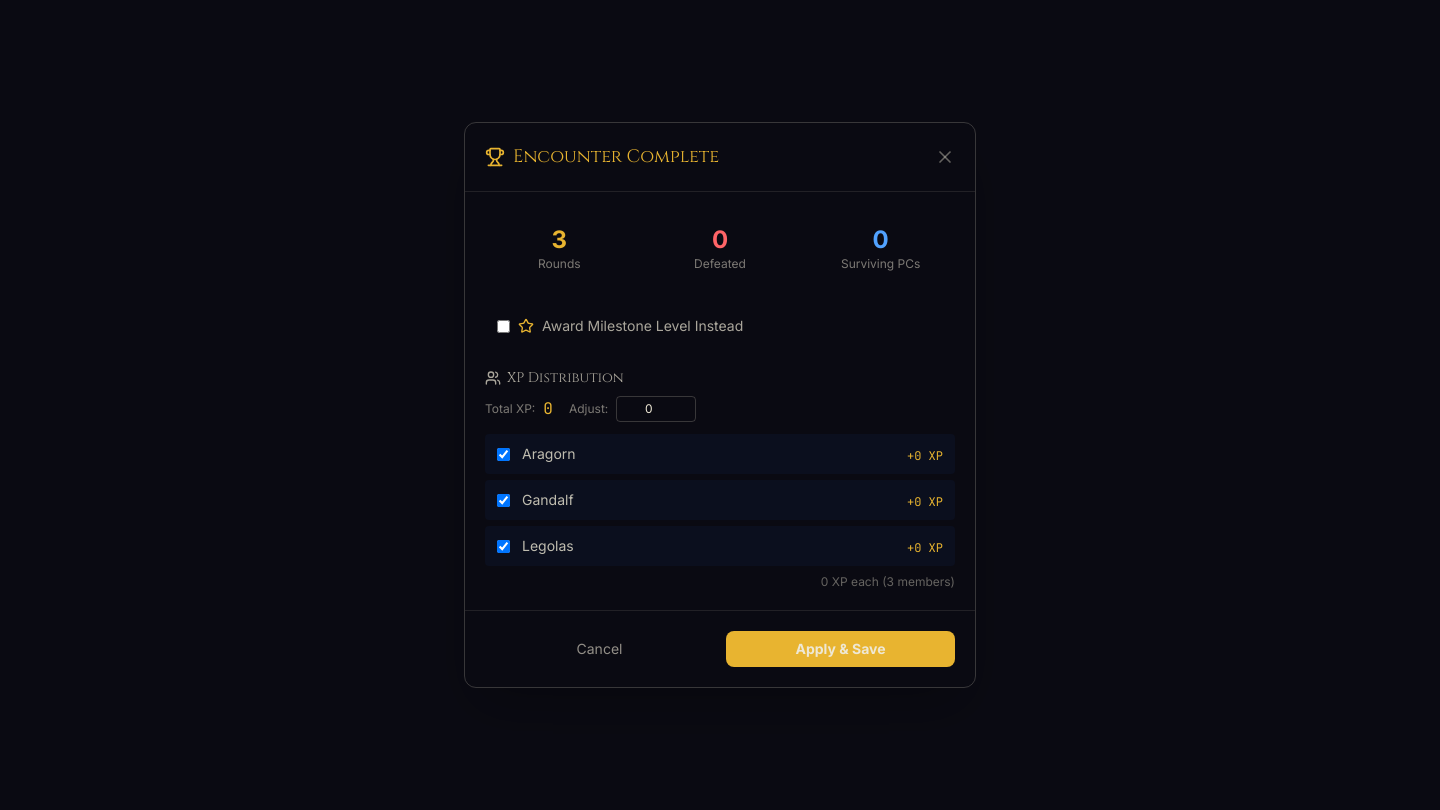
Scenario: EndEncounterModal › should show milestone message when milestone is toggled
Click the text "Award Milestone Level Instead".
click(620, 326)  # box x1=497 y1=317 x2=743 y2=334
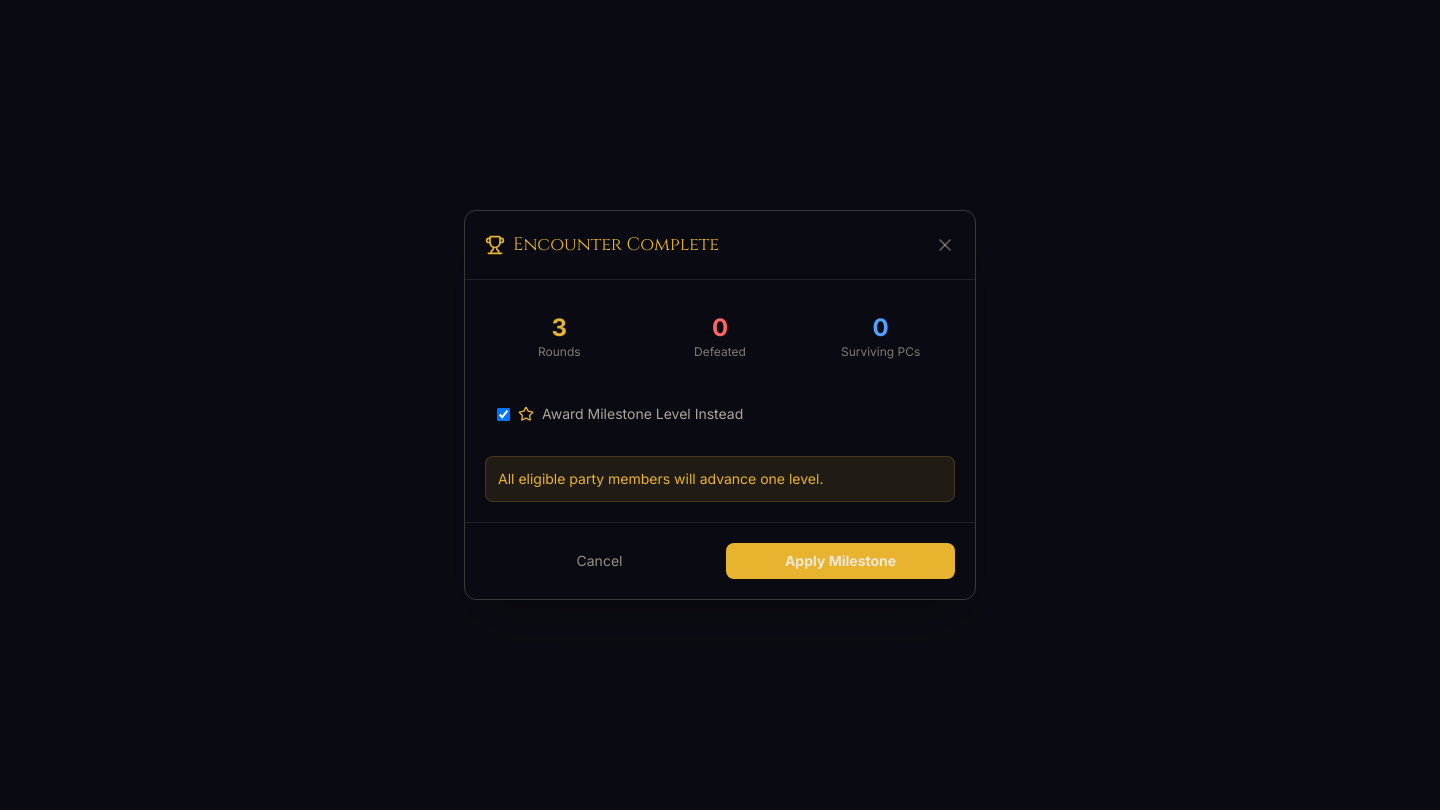
Expected: the text "All eligible party members will advance one level." is shown, x1=498 y1=470 x2=823 y2=487
